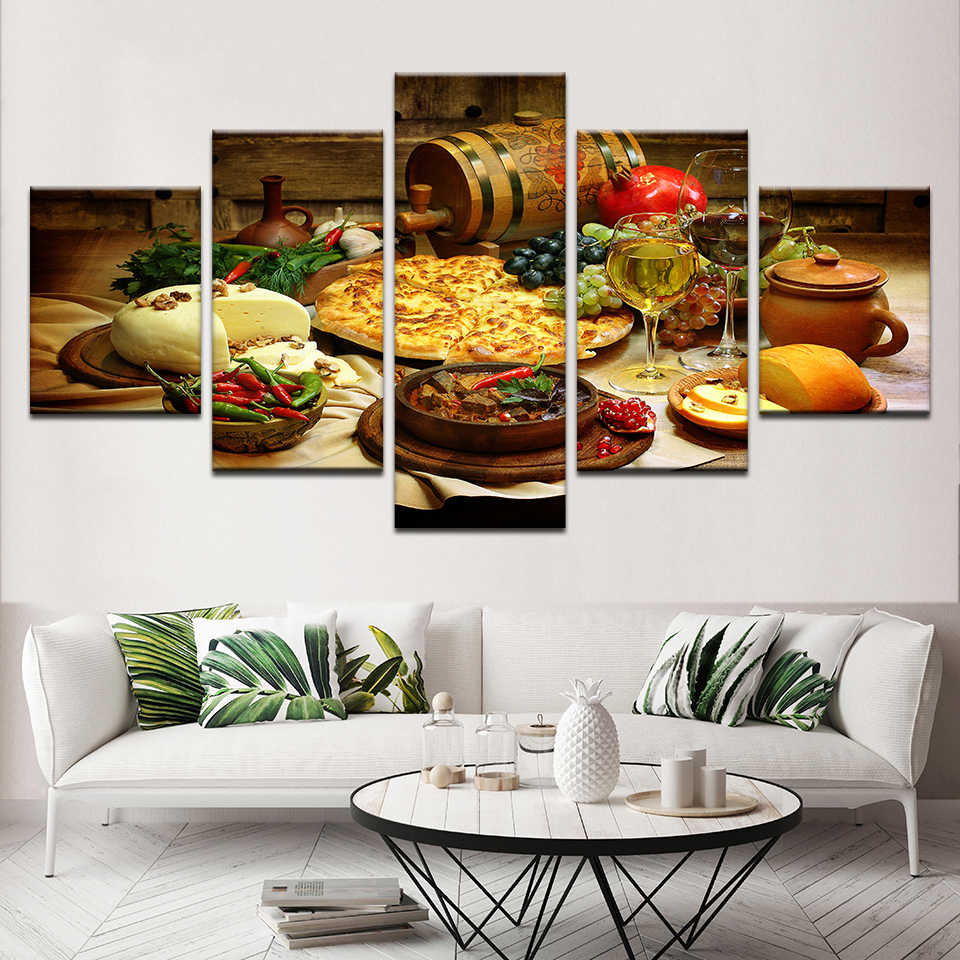lukisan: (34, 53, 941, 526)
